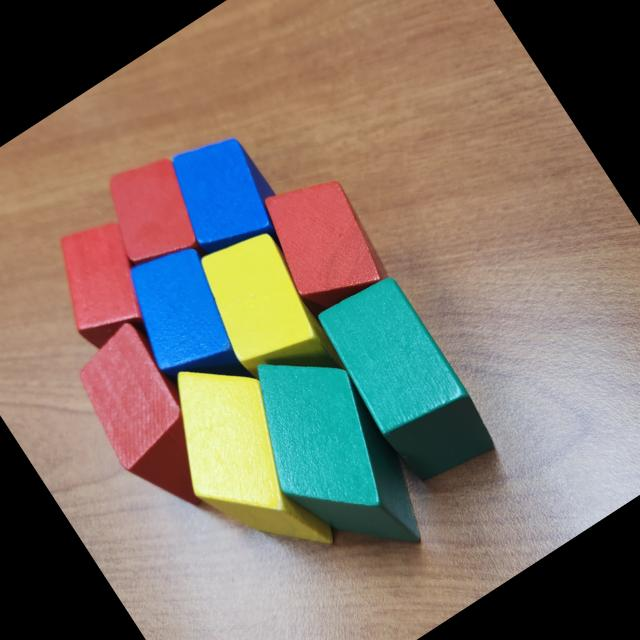blue: (102, 230, 276, 423), (148, 120, 300, 282)
green: (213, 322, 447, 591), (306, 266, 504, 498)
red: (58, 316, 242, 528), (245, 160, 400, 326), (28, 205, 174, 358), (86, 142, 219, 280)
yellow: (134, 336, 356, 591), (180, 217, 353, 411)
